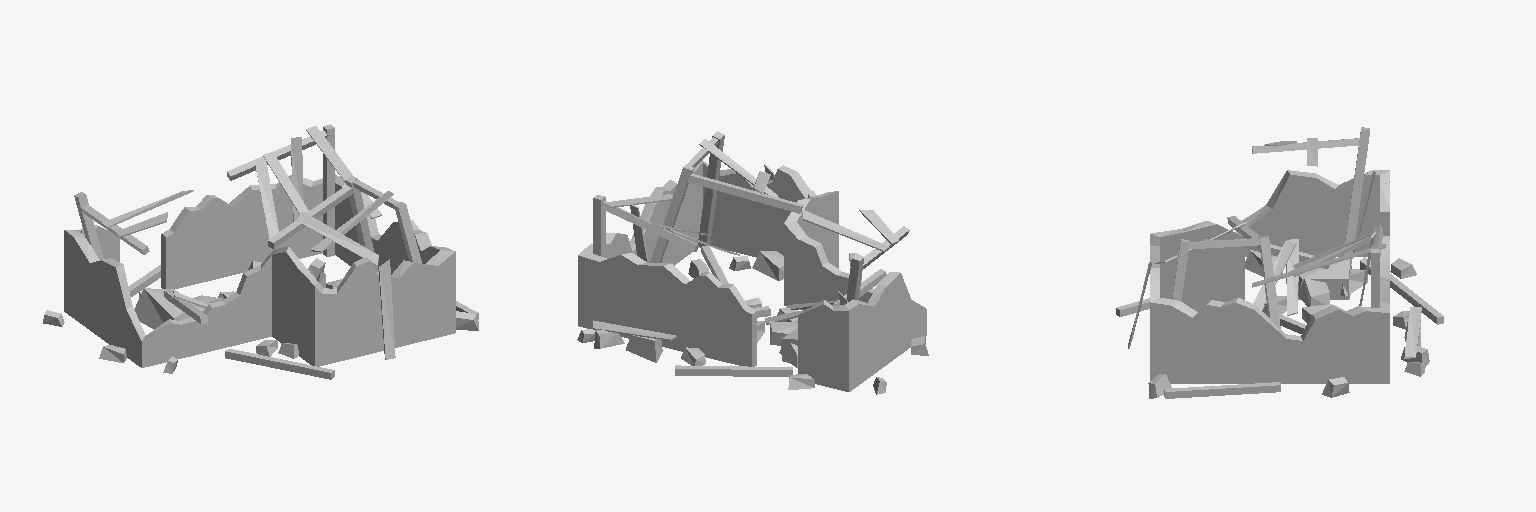
Rendered from ruined_house_2.obj.
The picture shows the model from 3 angles: view 1: azimuth 30°, elevation 25°; view 2: azimuth 150°, elevation 25°; view 3: azimuth 270°, elevation 25°; orthographic projection.
Visible parts, largest first — view 1: ruined_house_2; view 2: ruined_house_2; view 3: ruined_house_2.
Boxes of the visible parts, x1=… form: ruined_house_2: x1=43, y1=124, x2=478, y2=379; ruined_house_2: x1=577, y1=131, x2=928, y2=394; ruined_house_2: x1=1116, y1=127, x2=1443, y2=398.
Bounding box in the file's own units: 10.65 × 4.19 × 9.16.